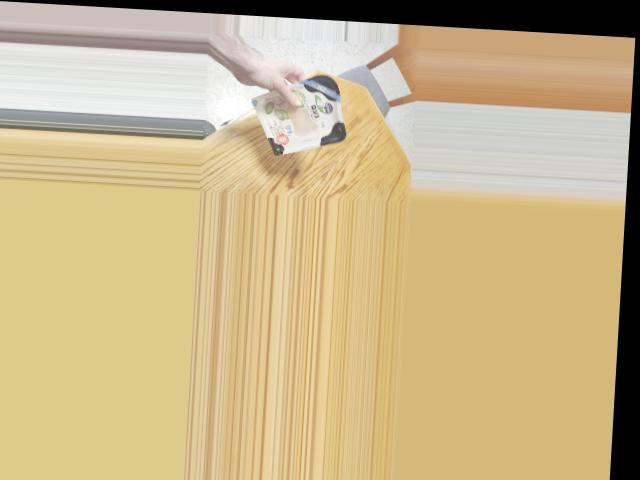cheese: (263, 68, 351, 157)
